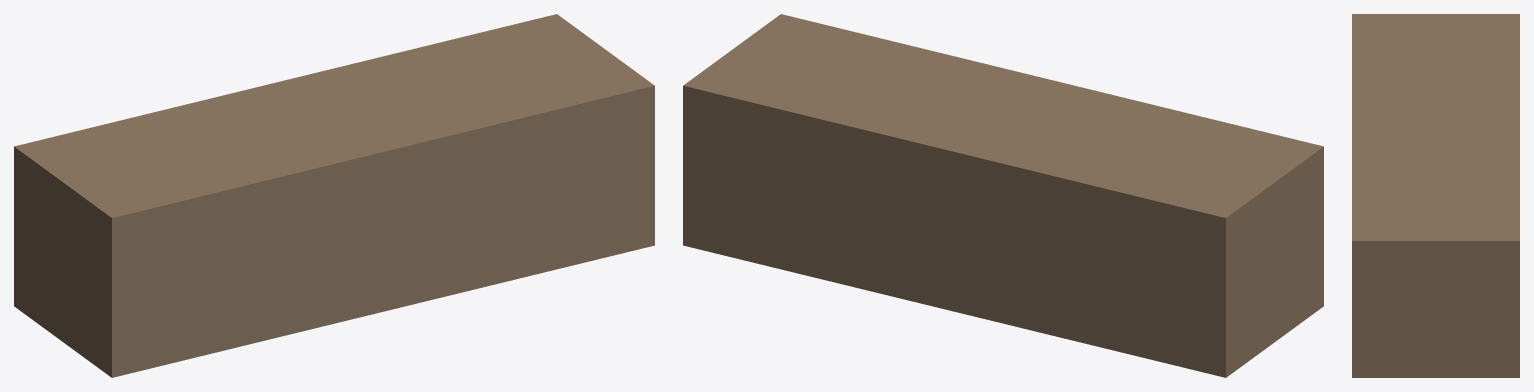
Rendered from cabinetTelevision.glb.
3 renders of one model, left to right at view 1: azimuth 30°, elevation 25°; view 2: azimuth 150°, elevation 25°; view 3: azimuth 270°, elevation 25°, orthographic. The views are drawn at different scales.
Size of the model in its own units: 1.6 by 0.45 by 0.5.
